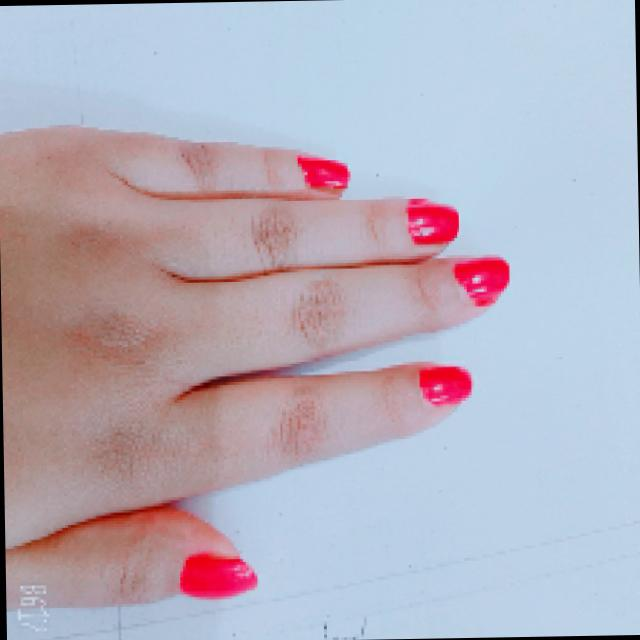Nail: (178, 553, 256, 598), (406, 204, 458, 245), (418, 366, 471, 406), (453, 258, 508, 295), (297, 155, 349, 188)
